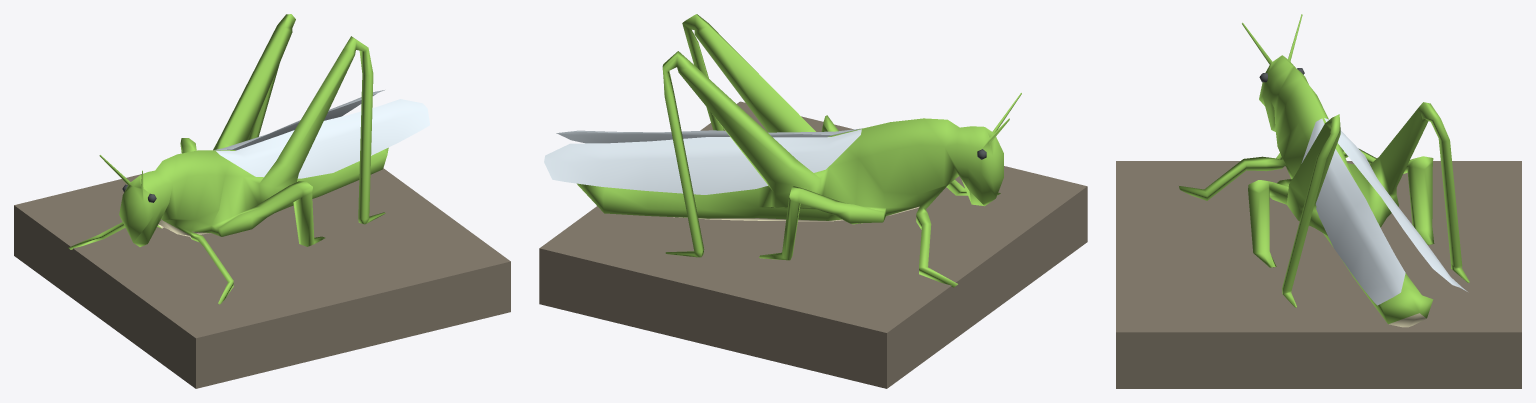
File: GrassHopper.gltf
3 renders of one model, left to right at view 1: azimuth 30°, elevation 25°; view 2: azimuth 150°, elevation 25°; view 3: azimuth 270°, elevation 25°, orthographic. The views are drawn at different scales.
Parts seen in each view (by area): view 1: Box, buffer-0-mesh-0 (×2); view 2: Box, buffer-0-mesh-0 (×2); view 3: Box, buffer-0-mesh-0 (×2).
Part boxes in pixels (bbox=[...]): Box: bbox=[14, 168, 510, 388]; buffer-0-mesh-0 (×2): bbox=[68, 14, 429, 304]; Box: bbox=[539, 101, 1087, 388]; buffer-0-mesh-0 (×2): bbox=[544, 14, 1021, 287]; Box: bbox=[1116, 161, 1521, 388]; buffer-0-mesh-0 (×2): bbox=[1179, 14, 1469, 324].
Bounding box in the file's own units: 1.17 × 0.659 × 1.
